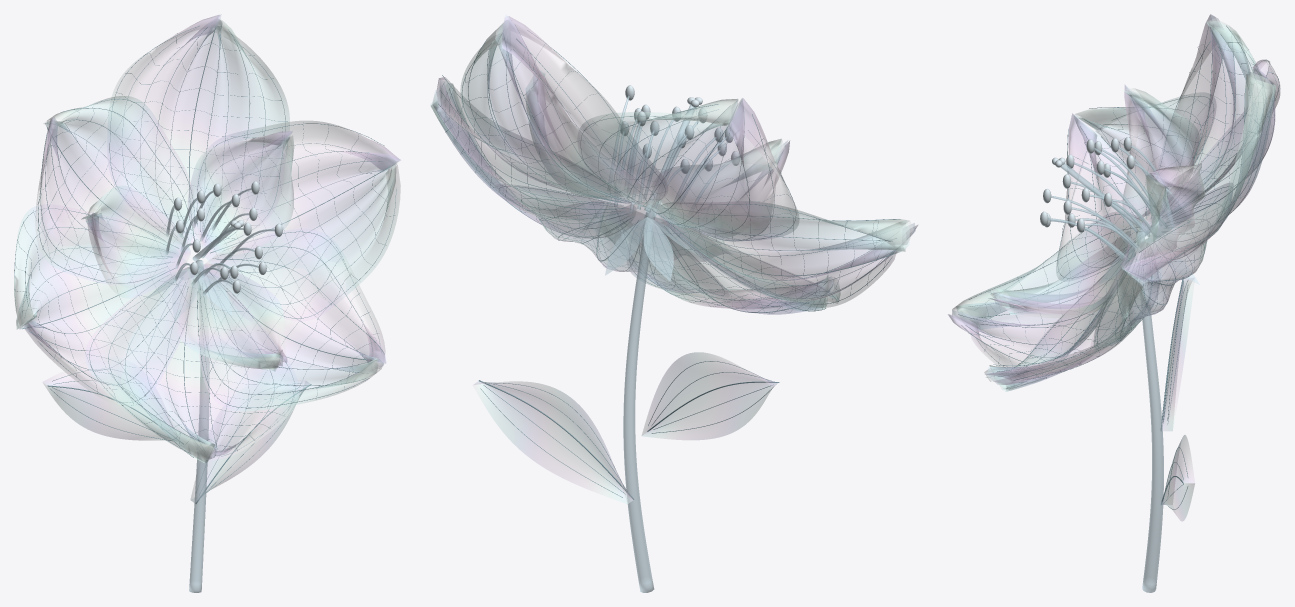
The model's file is Flor_Translucida.glb.
The picture shows the model from 3 angles, left to right: view 1: azimuth 30°, elevation 25°; view 2: azimuth 150°, elevation 25°; view 3: azimuth 270°, elevation 25°; orthographic projection. The views are drawn at different scales.
Visible parts, largest first — view 1: Petalas_Iridescentes, Nervuras_Finas, Folhas_Translucidas, Caule_e_Sepalas, Estames_e_Pistilo, Anteras_Peroladas; view 2: Petalas_Iridescentes, Folhas_Translucidas, Nervuras_Finas, Caule_e_Sepalas, Estames_e_Pistilo, Anteras_Peroladas; view 3: Petalas_Iridescentes, Nervuras_Finas, Caule_e_Sepalas, Folhas_Translucidas, Estames_e_Pistilo, Anteras_Peroladas.
Boxes of the visible parts, box(x1,y1,x2,y2) form: Petalas_Iridescentes: box(14, 14, 400, 463); Nervuras_Finas: box(14, 22, 396, 503); Folhas_Translucidas: box(42, 362, 309, 502); Caule_e_Sepalas: box(150, 260, 232, 592); Estames_e_Pistilo: box(165, 188, 274, 295); Anteras_Peroladas: box(174, 181, 282, 293); Petalas_Iridescentes: box(430, 15, 917, 314); Folhas_Translucidas: box(473, 352, 777, 503); Nervuras_Finas: box(437, 25, 900, 499); Caule_e_Sepalas: box(601, 206, 699, 592); Estames_e_Pistilo: box(612, 95, 727, 227); Anteras_Peroladas: box(620, 85, 739, 173); Petalas_Iridescentes: box(948, 14, 1280, 391); Nervuras_Finas: box(958, 25, 1280, 509); Caule_e_Sepalas: box(1098, 231, 1199, 592); Folhas_Translucidas: box(1162, 278, 1194, 521); Estames_e_Pistilo: box(1048, 145, 1172, 261); Anteras_Peroladas: box(1040, 137, 1134, 232).
Bounding box in the file's own units: 3.32 × 4.18 × 2.24.
Materials: 4 (1 with a texture image).
